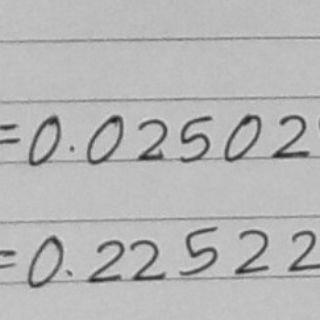.: (64, 265, 75, 279), (67, 142, 77, 154)
0: (84, 111, 126, 168), (26, 234, 65, 289), (223, 114, 263, 162), (26, 115, 61, 166)
2: (270, 113, 313, 160), (233, 226, 272, 275), (129, 237, 166, 281), (88, 239, 125, 282), (136, 115, 169, 163), (288, 228, 320, 273)
5: (178, 225, 221, 277), (178, 113, 215, 166)
